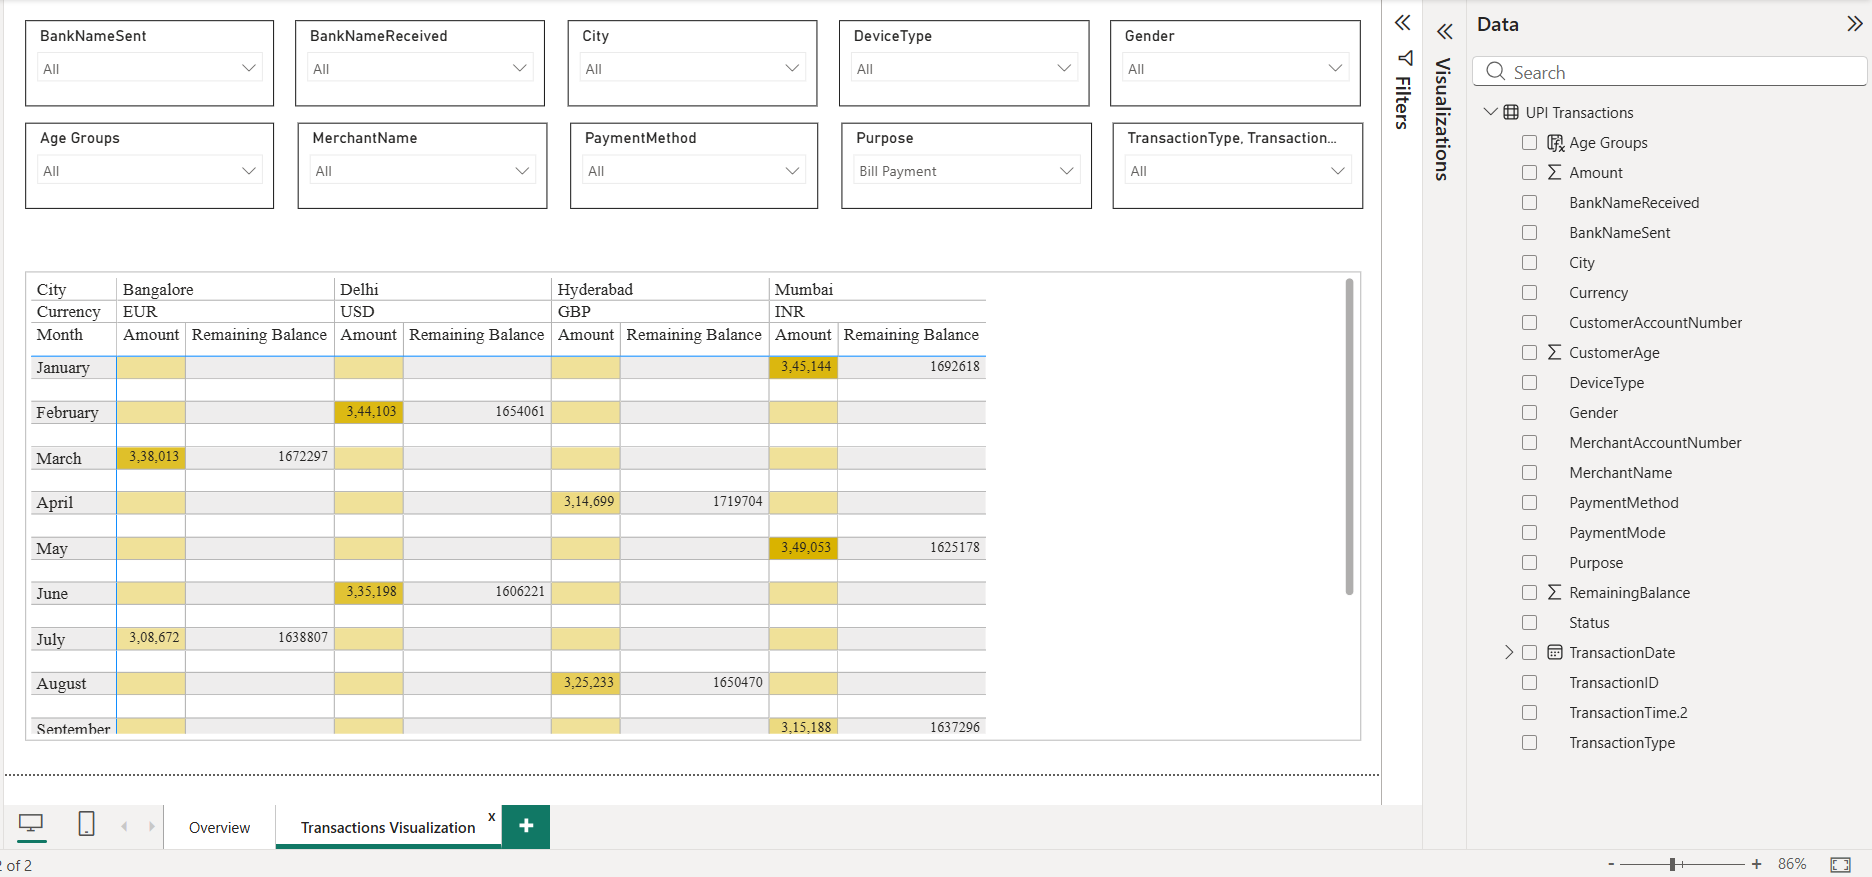

Layout of this report page (visuals, bound fields, positions):
{"tool":"powerbi","page":{"name":"Transactions Visualization","canvas":[1280,720],"ordinal":1},"visuals":[{"type":"slicer","fields":{"Values":["UPI Transactions.BankNameSent"]},"box":[20,20,231.4,80],"z":0},{"type":"slicer","fields":{"Values":["UPI Transactions.BankNameReceived"]},"box":[271,20,232,80],"z":1000},{"type":"slicer","fields":{"Values":["UPI Transactions.City"]},"box":[524.3,20,232,80],"z":2000},{"type":"slicer","fields":{"Values":["UPI Transactions.DeviceType"]},"box":[776,20,232.9,80],"z":3000},{"type":"slicer","fields":{"Values":["UPI Transactions.Gender"]},"box":[1028,20,232.9,80],"z":4000},{"type":"slicer","fields":{"Values":["UPI Transactions.Age Groups"]},"box":[20,115,231.4,80],"z":5000},{"type":"slicer","fields":{"Values":["UPI Transactions.MerchantName"]},"box":[273,115,232,80],"z":6000},{"type":"slicer","fields":{"Values":["UPI Transactions.PaymentMethod"]},"box":[525.7,115,230,80],"z":7000},{"type":"slicer","fields":{"Values":["UPI Transactions.Purpose"]},"box":[778,115,232.9,80],"z":8000},{"type":"slicer","fields":{"Values":["UPI Transactions.TransactionType","UPI Transactions.TransactionType"]},"box":[1030,115,232.9,80],"z":9000},{"type":"pivotTable","fields":{"Values":["Sum(UPI Transactions.Amount)","Sum(UPI Transactions.RemainingBalance)"],"Rows":["UPI Transactions.TransactionDate.Variation.Date Hierarchy.Month"],"Columns":["UPI Transactions.City","UPI Transactions.Currency"]},"box":[20,252.9,1241.4,435.7],"z":10000}]}

Visuals, with their boxes on the page's 1280x720 design canvas (x1, y1, x2, y2). These are canvas units, not pixel positions in the 1872x877 screenshot, which may show the page scaled, cropped or inside an application window:
slicer - UPI Transactions.BankNameSent: l=20, t=20, r=251, b=100
slicer - UPI Transactions.BankNameReceived: l=271, t=20, r=503, b=100
slicer - UPI Transactions.City: l=524, t=20, r=756, b=100
slicer - UPI Transactions.DeviceType: l=776, t=20, r=1009, b=100
slicer - UPI Transactions.Gender: l=1028, t=20, r=1261, b=100
slicer - UPI Transactions.Age Groups: l=20, t=115, r=251, b=195
slicer - UPI Transactions.MerchantName: l=273, t=115, r=505, b=195
slicer - UPI Transactions.PaymentMethod: l=526, t=115, r=756, b=195
slicer - UPI Transactions.Purpose: l=778, t=115, r=1011, b=195
slicer - UPI Transactions.TransactionType x UPI Transactions.TransactionType: l=1030, t=115, r=1263, b=195
pivotTable - Sum(UPI Transactions.Amount) x Sum(UPI Transactions.RemainingBalance): l=20, t=253, r=1261, b=689
